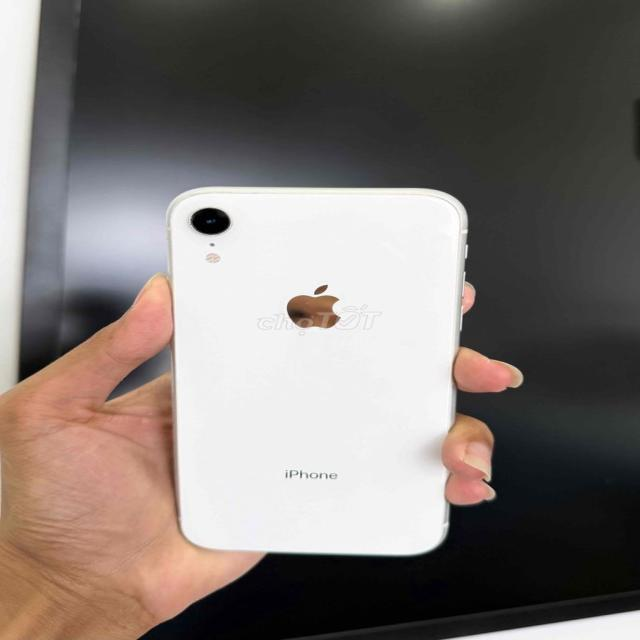gen_x_xs: (154, 180, 483, 571)
